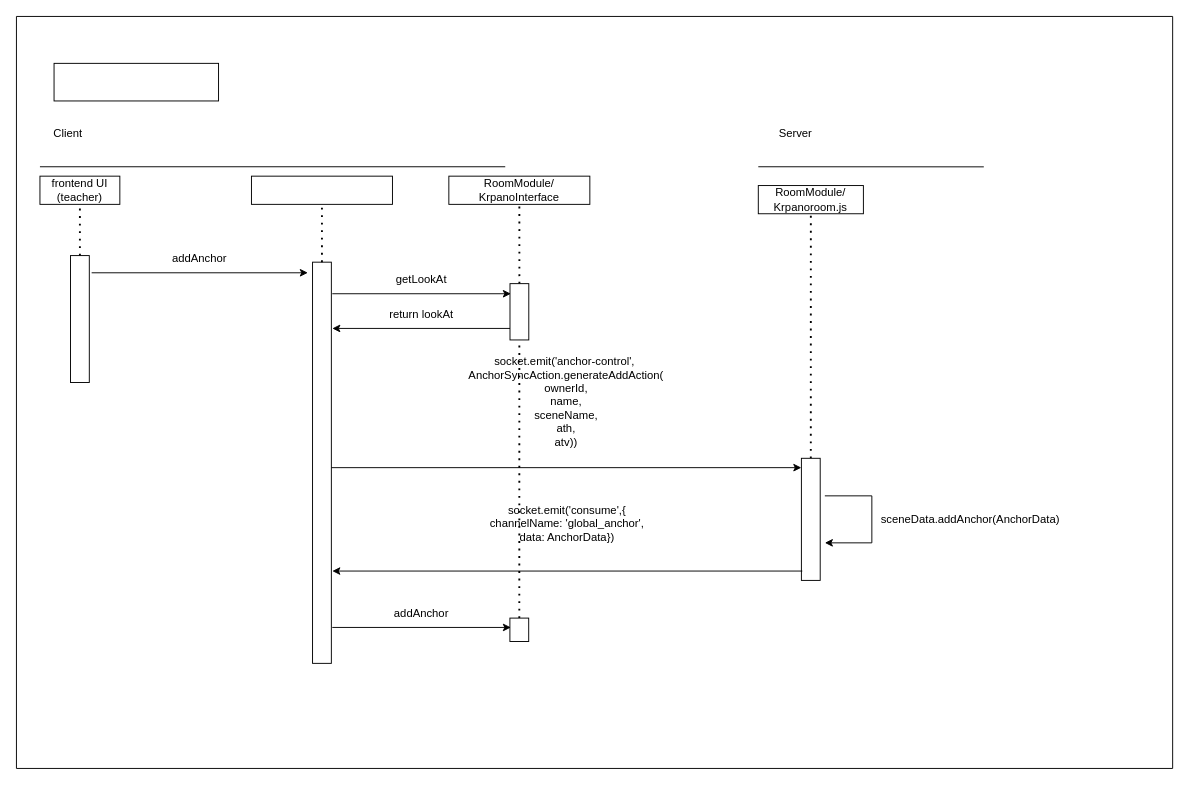
This 1189x785 diagram has some shape labels left out. The centre of each missing label's shape, as x and y in pixels:
"Krpanoroom : add anchor(同步環景)" goes at pixel 136 81.
"RoomModule/ KrpanoroomClient" goes at pixel 321 189.
